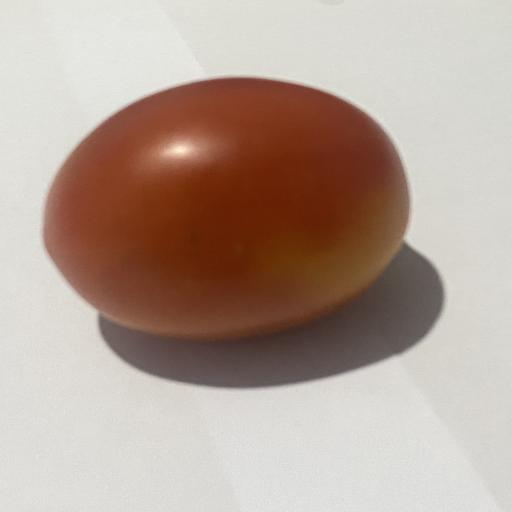ripe: (44, 78, 409, 338)
